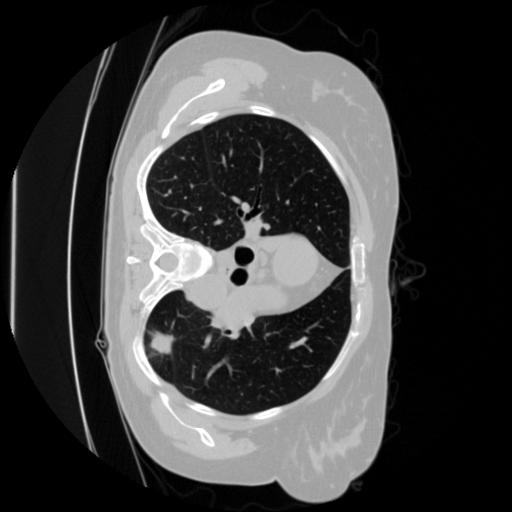nodule: (148, 326, 180, 358)
